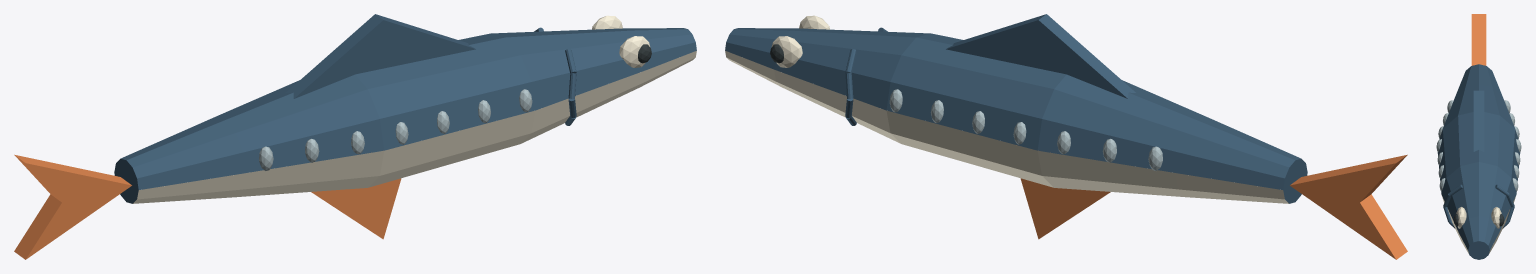
Rendered from harbor-and-tackle-mackerel-2c582521__19586.glb.
The picture shows the model from 3 angles, left to right: view 1: azimuth 30°, elevation 25°; view 2: azimuth 150°, elevation 25°; view 3: azimuth 270°, elevation 25°; orthographic projection. The views are drawn at different scales.
Parts seen in each view (by area): view 1: navy, ivory, orange, metal; view 2: navy, ivory, orange, metal; view 3: navy, orange, metal, ivory, rubber.
Part boxes in pixels (x1,y1,x2,y2): navy: (114,14,696,203); ivory: (133,15,696,203); orange: (14,154,401,259); metal: (259,89,532,171); navy: (725,14,1307,203); ivory: (725,15,1288,203); orange: (1020,154,1407,259); metal: (889,89,1162,171); navy: (1437,64,1520,259); orange: (1471,14,1486,65); metal: (1436,100,1521,191); ivory: (1442,196,1515,253); rubber: (1453,214,1504,226).
Size of the model in its own units: 1.17 by 0.366 by 0.2037.
